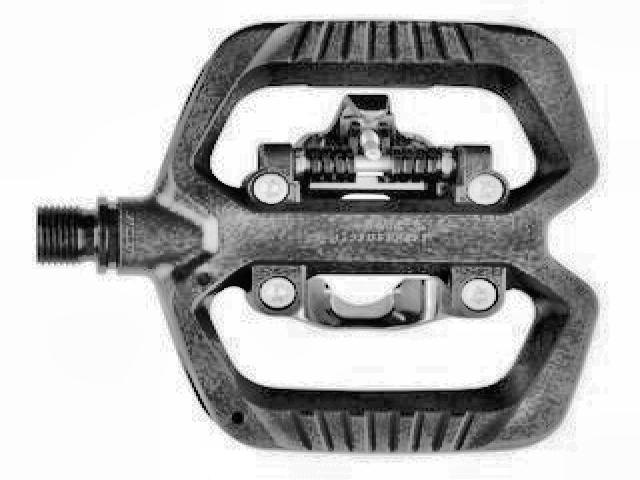pedal: (30, 21, 602, 456)
